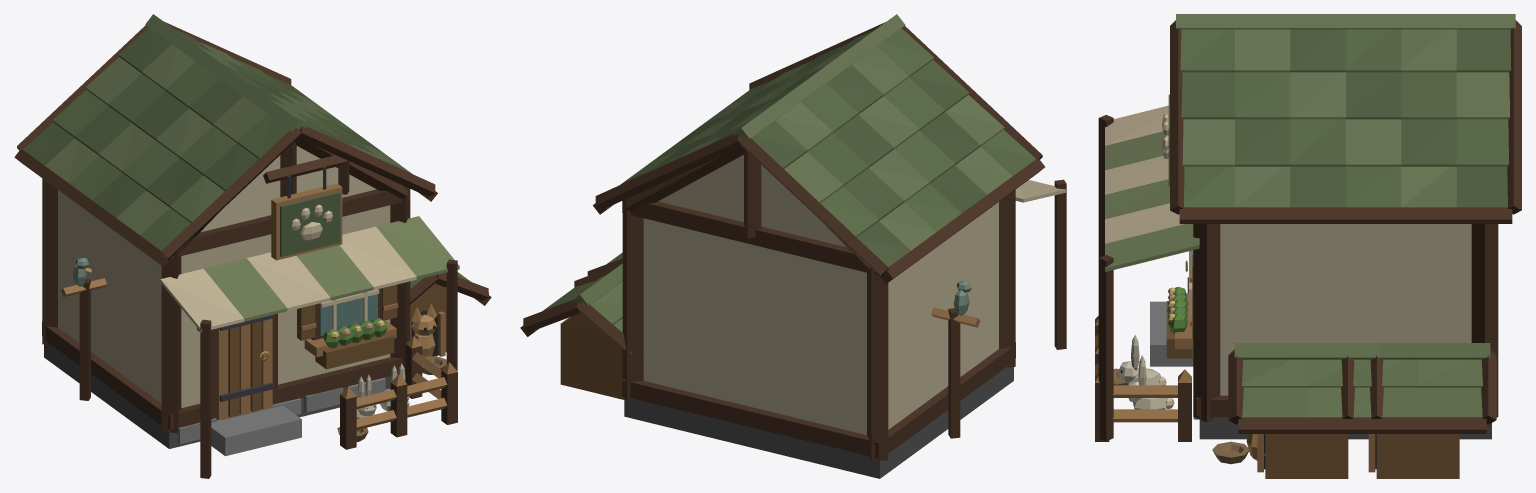
File: town_pet_shop_a.glb
The picture shows the model from 3 angles, left to right: view 1: azimuth 30°, elevation 25°; view 2: azimuth 150°, elevation 25°; view 3: azimuth 270°, elevation 25°; orthographic projection. The views are drawn at different scales.
Parts seen in each view (by area): view 1: town_pet_shop_a; view 2: town_pet_shop_a; view 3: town_pet_shop_a.
Boxes of the visible parts, x1=… form: town_pet_shop_a: x1=14, y1=14, x2=491, y2=478; town_pet_shop_a: x1=520, y1=14, x2=1066, y2=478; town_pet_shop_a: x1=1095, y1=14, x2=1521, y2=478.
Size of the model in its own units: 4.26 by 3.33 by 3.61.
